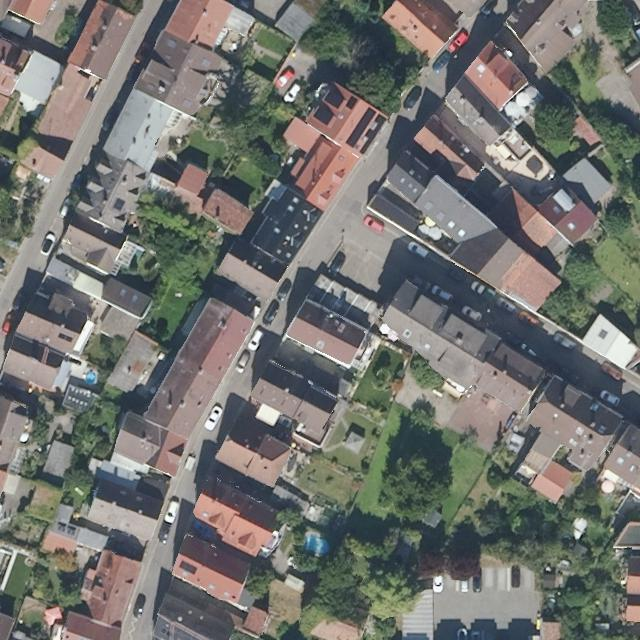PV: (341, 106, 378, 151), (356, 113, 389, 157), (153, 613, 172, 639), (172, 624, 202, 639), (177, 559, 199, 576)
